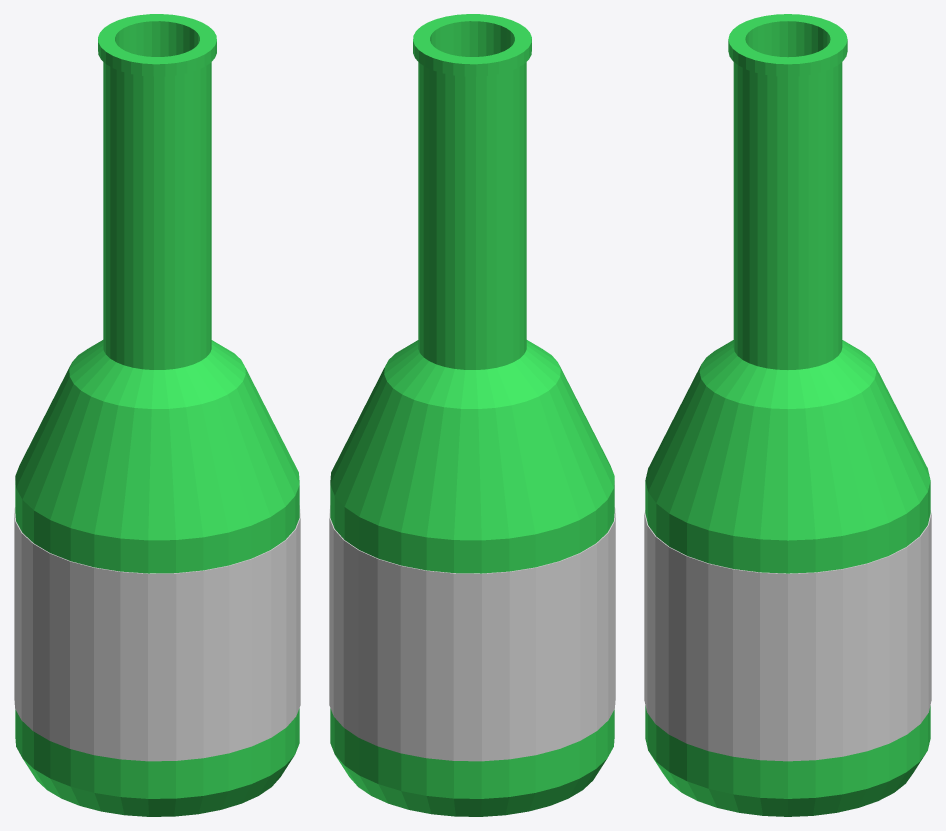
Rendered from soju_model.fbx.
3 renders of one model, left to right at view 1: azimuth 30°, elevation 25°; view 2: azimuth 150°, elevation 25°; view 3: azimuth 270°, elevation 25°, orthographic.
Visible parts, largest first — view 1: Cylinder, Cylinder.001; view 2: Cylinder, Cylinder.001; view 3: Cylinder, Cylinder.001.
Part boxes in pixels (<box>): Cylinder: <box>15,14,299,816</box>; Cylinder.001: <box>14,505,300,761</box>; Cylinder: <box>330,14,614,816</box>; Cylinder.001: <box>329,505,615,761</box>; Cylinder: <box>645,14,930,816</box>; Cylinder.001: <box>644,510,931,761</box>.
Size of the model in its own units: 201 by 560 by 201.
